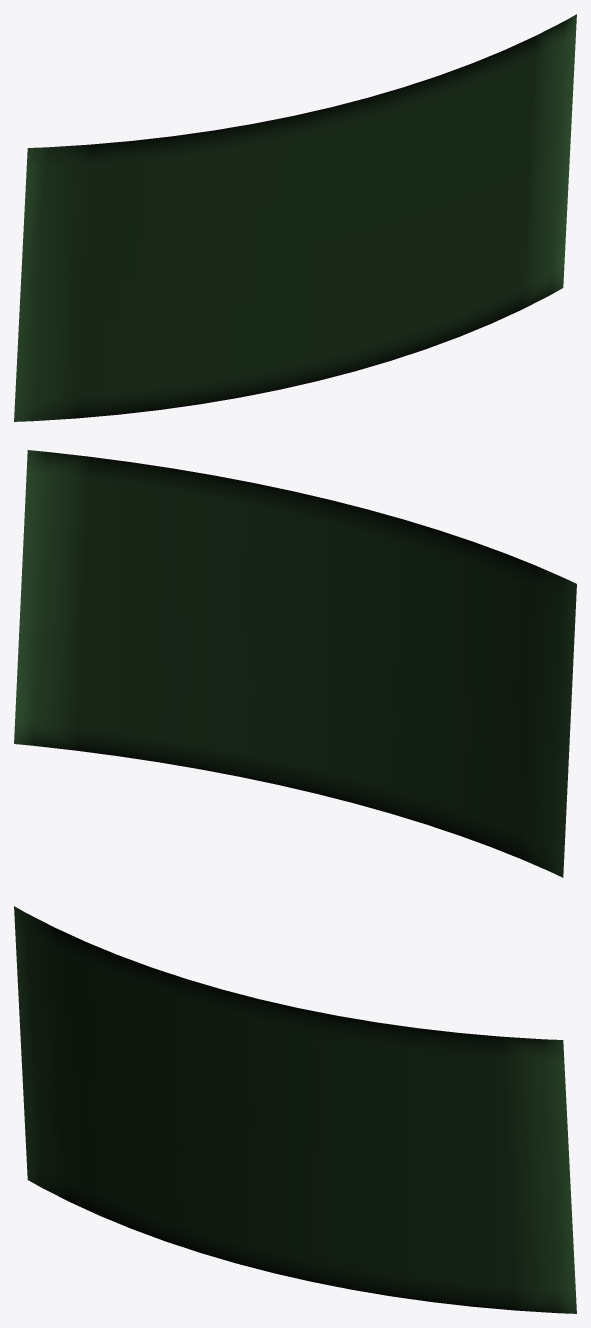
Rendered from Prop_Screen.FBX.
3 views of the same model, one above another, from view 1: azimuth 30°, elevation 25°; view 2: azimuth 150°, elevation 25°; view 3: azimuth 330°, elevation 25° (orthographic).
Visible parts, largest first — view 1: Screen; view 2: Screen; view 3: Screen.
Boxes of the visible parts, x1,y1,x2,y2 form: Screen: (14, 14, 576, 421); Screen: (14, 450, 576, 877); Screen: (14, 906, 576, 1313).
Bounding box in the file's own units: 83.91 × 42.12 × 11.38.
